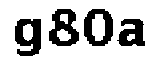0: (80, 8, 114, 50)
8: (46, 7, 80, 49)
a: (117, 17, 147, 48)
g: (9, 14, 43, 60)
